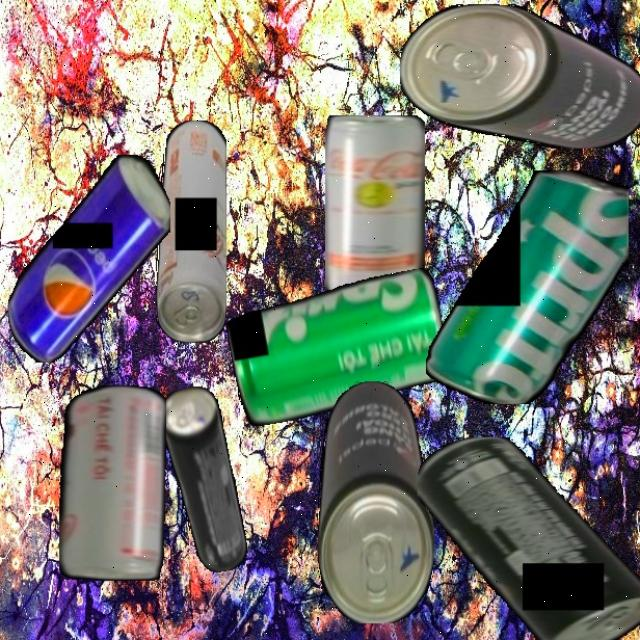debris: (426, 170, 629, 404), (417, 436, 640, 639), (222, 267, 454, 428), (400, 3, 640, 149), (8, 154, 170, 362), (316, 381, 434, 624), (58, 385, 166, 581), (325, 115, 425, 302), (157, 382, 250, 577), (155, 119, 226, 343)
